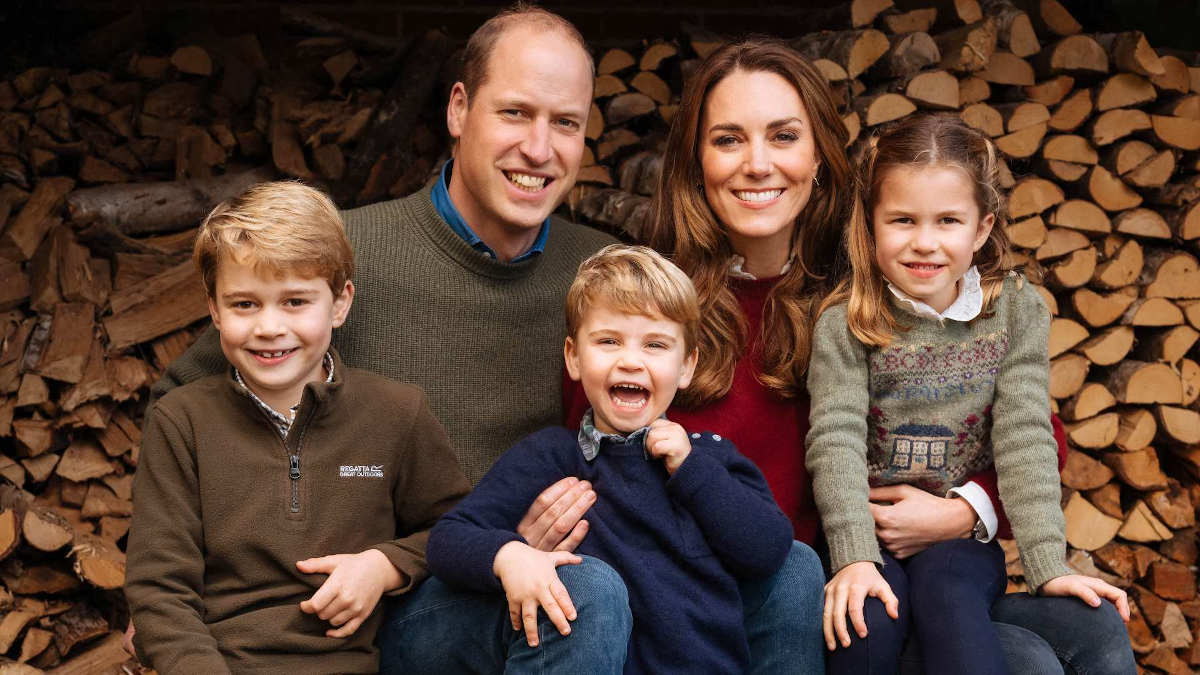without_mask: (476, 50, 594, 227), (698, 91, 823, 241), (209, 250, 333, 389), (575, 299, 689, 434), (868, 178, 984, 301)
